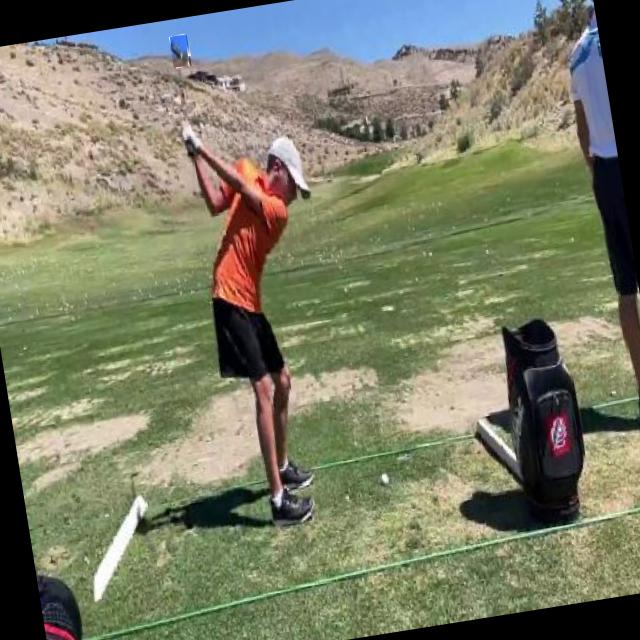club head: (170, 34, 192, 69)
